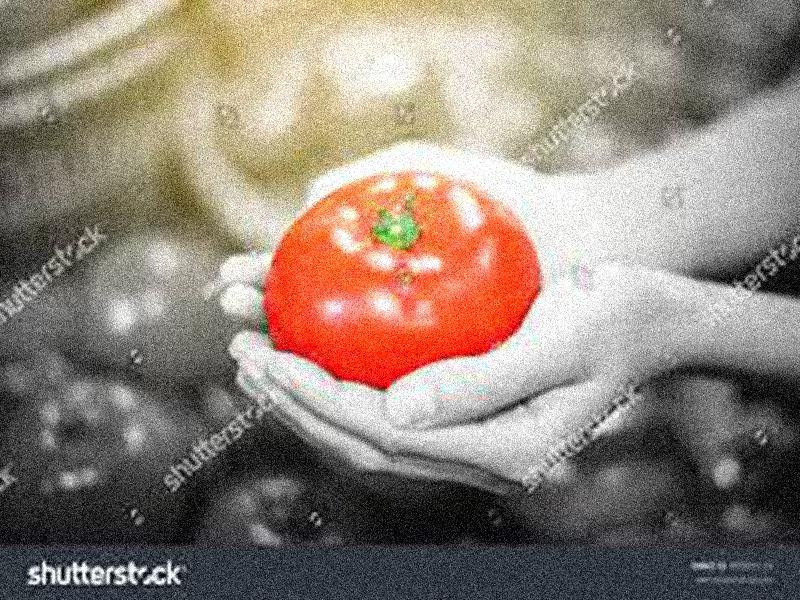Tomato: (266, 172, 540, 388)
